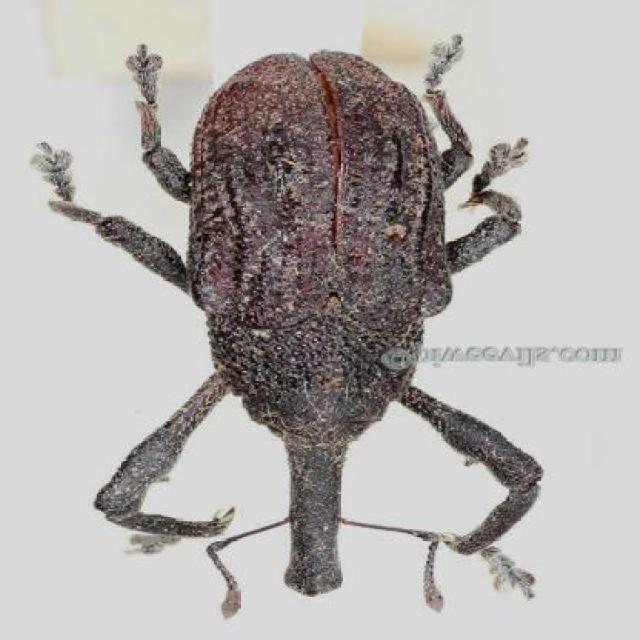rice-bug: (92, 38, 543, 600)
